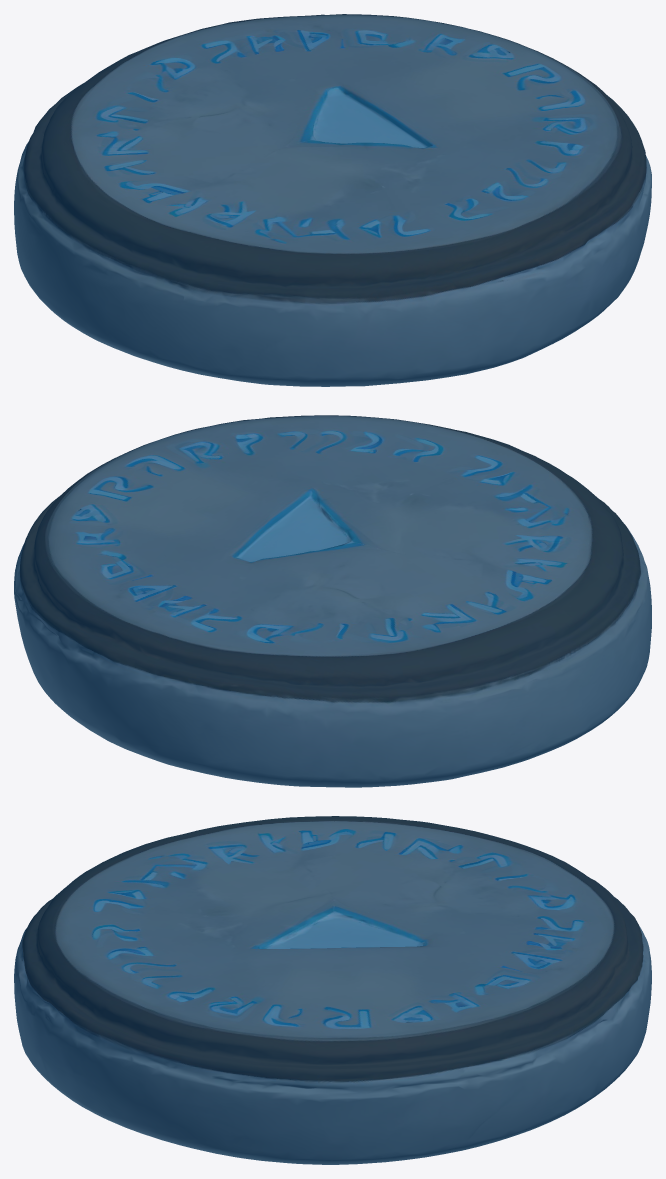
Rendered from disc_hyrule.glb.
3 views of the same model, one above another, from view 1: azimuth 30°, elevation 25°; view 2: azimuth 150°, elevation 25°; view 3: azimuth 270°, elevation 25° (orthographic).
Parts seen in each view (by area): view 1: tripo_node_bc971dc5-9247-4a95-92b1-1c69ee1dc367; view 2: tripo_node_bc971dc5-9247-4a95-92b1-1c69ee1dc367; view 3: tripo_node_bc971dc5-9247-4a95-92b1-1c69ee1dc367.
Boxes of the visible parts, left/top/right/bottom form: tripo_node_bc971dc5-9247-4a95-92b1-1c69ee1dc367: left=14, top=14, right=651, bottom=386; tripo_node_bc971dc5-9247-4a95-92b1-1c69ee1dc367: left=14, top=415, right=651, bottom=787; tripo_node_bc971dc5-9247-4a95-92b1-1c69ee1dc367: left=14, top=816, right=651, bottom=1164.
Size of the model in its own units: 0.9341 by 0.213 by 0.9495.
1 material, 1 textured.
